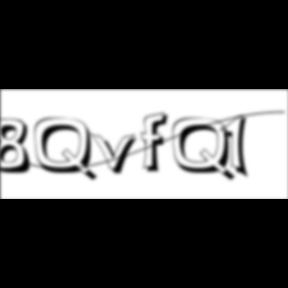1: (220, 114, 254, 182)
8: (1, 117, 37, 176)
Q: (35, 117, 101, 184), (172, 117, 238, 184)
f: (142, 111, 174, 175)
v: (90, 131, 144, 177)
